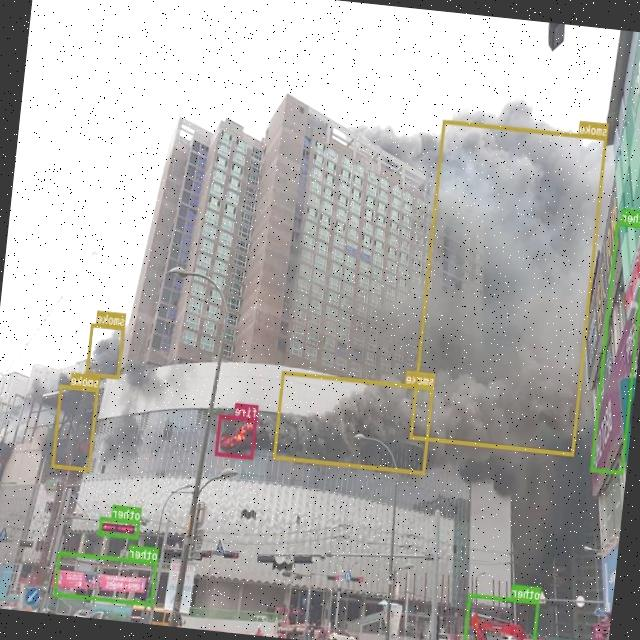fire: (215, 414, 257, 458)
smoke: (410, 118, 608, 456), (274, 370, 434, 474), (52, 384, 99, 471), (86, 322, 124, 378)
